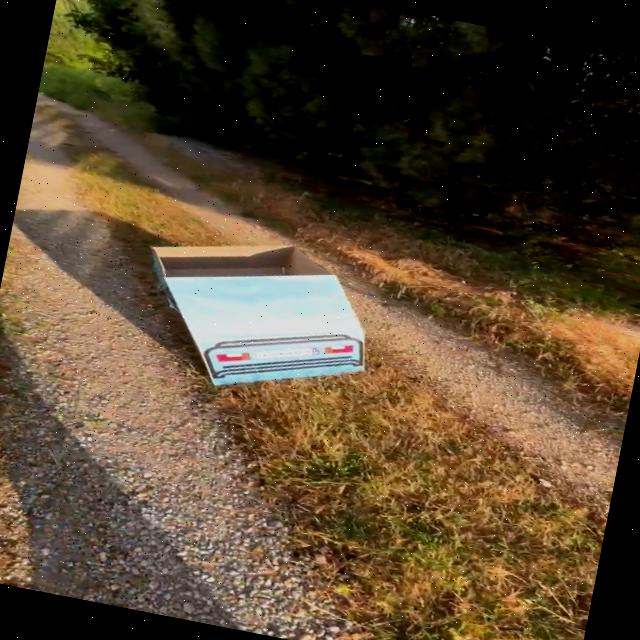blue_car: (82, 181, 448, 434)
